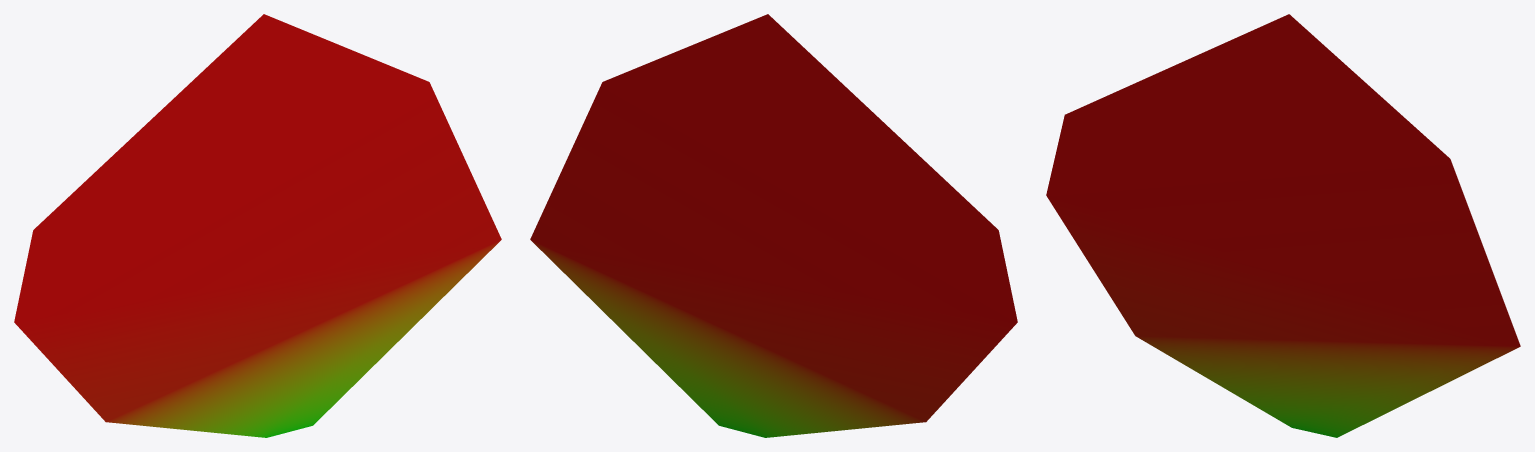
File: Leptadenia_LOD5_Var3_xdkgfgtqx.fbx
The picture shows the model from 3 angles, left to right: view 1: azimuth 30°, elevation 25°; view 2: azimuth 150°, elevation 25°; view 3: azimuth 330°, elevation 25°; orthographic projection. The views are drawn at different scales.
Parts seen in each view (by area): view 1: _7fgu_Var3_LOD5; view 2: _7fgu_Var3_LOD5; view 3: _7fgu_Var3_LOD5.
Boxes of the visible parts, x1,y1,x2,y2 form: _7fgu_Var3_LOD5: [14, 14, 501, 437]; _7fgu_Var3_LOD5: [530, 14, 1017, 437]; _7fgu_Var3_LOD5: [1046, 14, 1520, 437].
Bounding box in the file's own units: 139 × 116 × 0.
